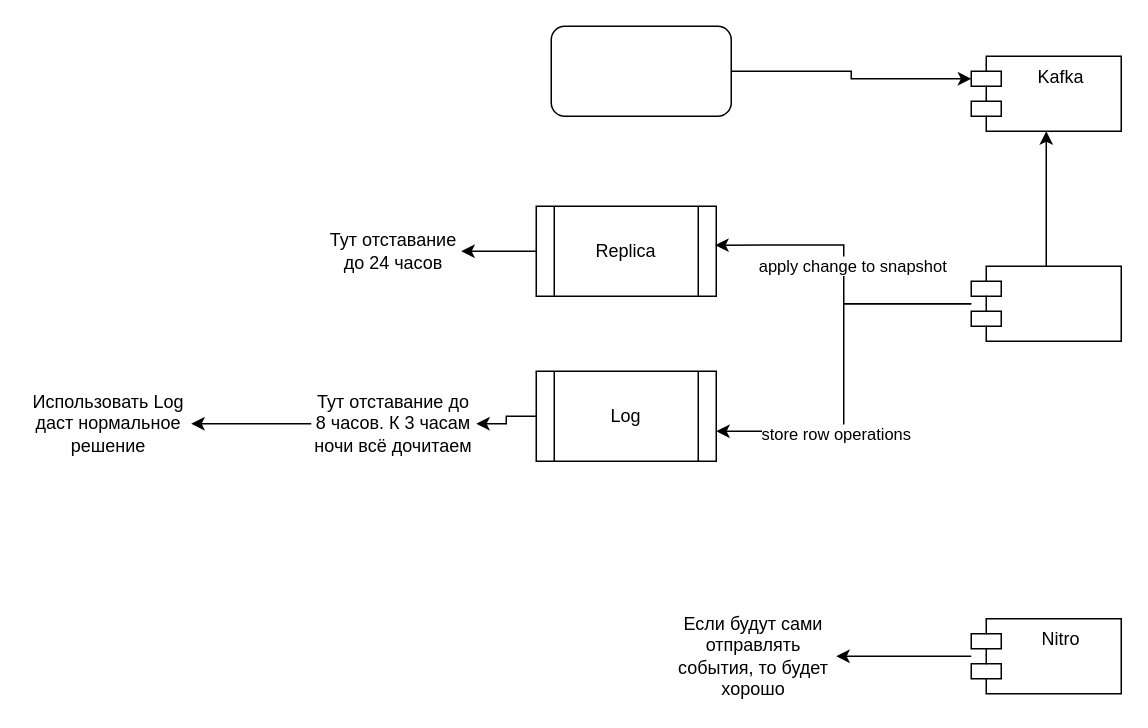
Some shapes in this 1148 by 728 pixel diagram are drawn without their labels. Here are the shapes that lost their labels. From the top down, the centre of each, then its label:
pixel 640 70: Statist
pixel 1045 303: Ingest
